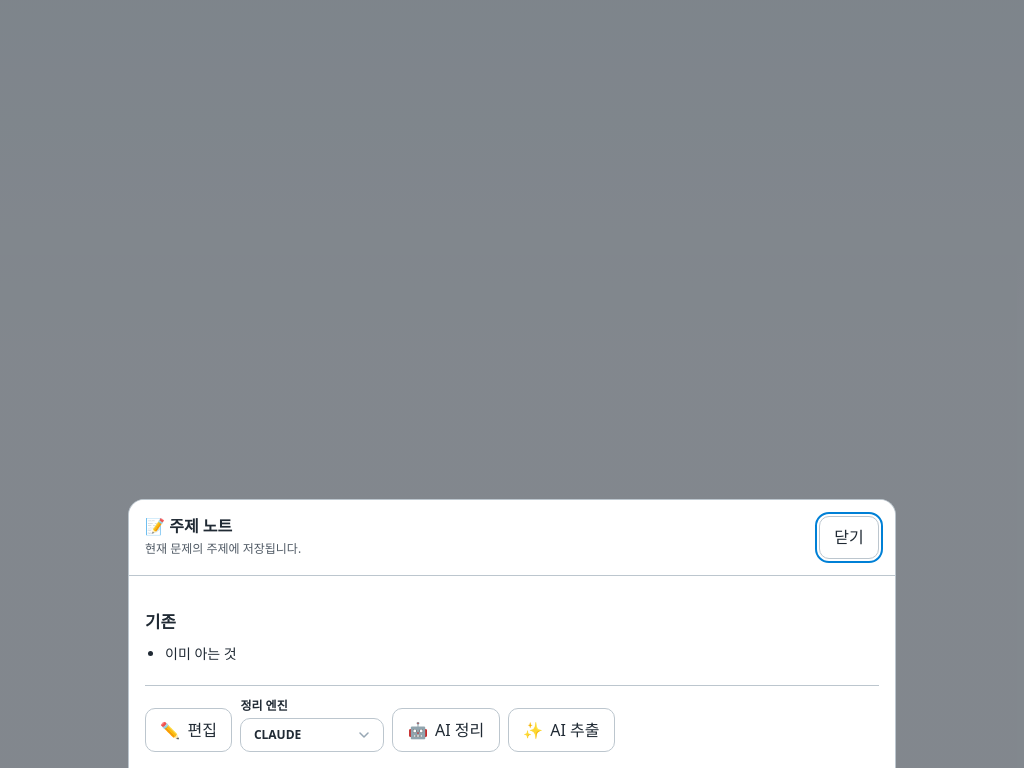
it: NotePanel › AI 추출 결과를 미리보기로 보여주고 노트 끝에 덧붙여 저장한다
Click the button "✨ AI 추출" at (561, 730), box [508,708,615,752]
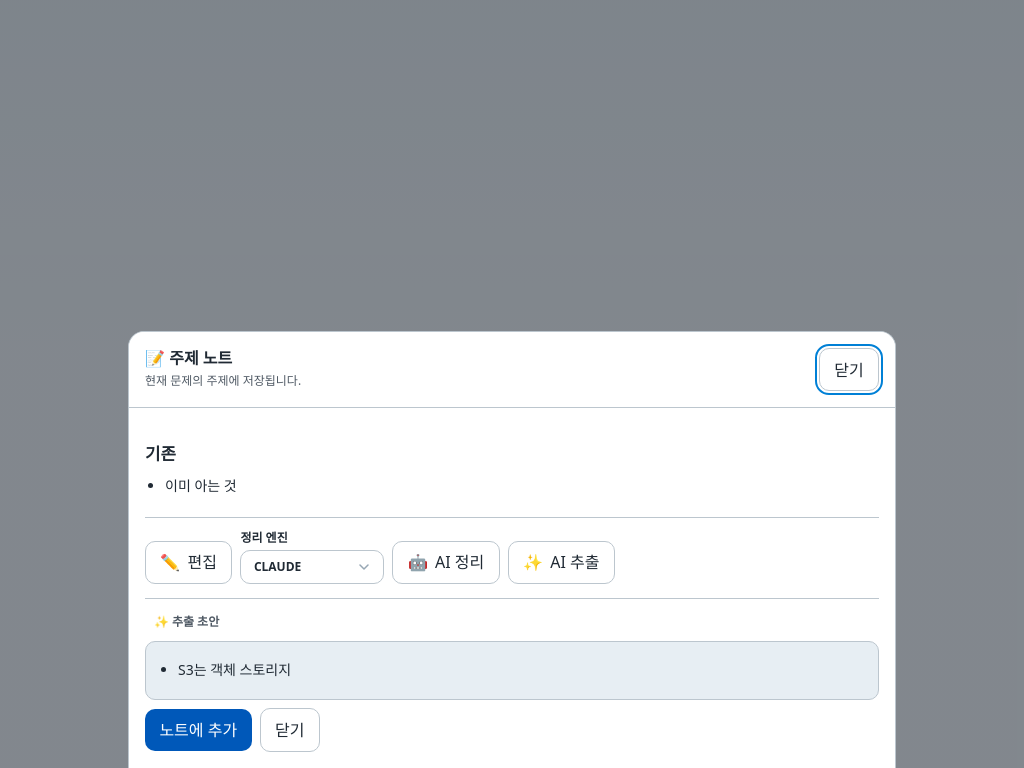
Now the list item "S3는 객체 스토리지" is shown, box [178,660,291,679]
Click the button "노트에 추가" at (198, 730), box [145,709,252,751]
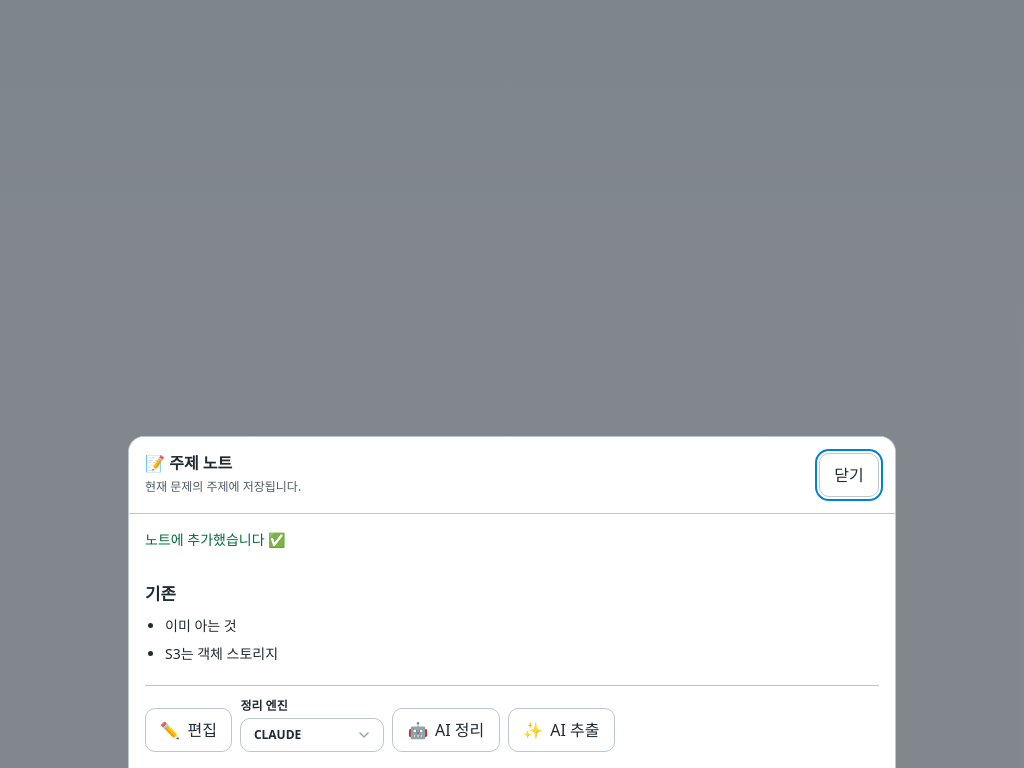
Now the text "노트에 추가했습니다 ✅" is shown, box [145,530,285,549]
